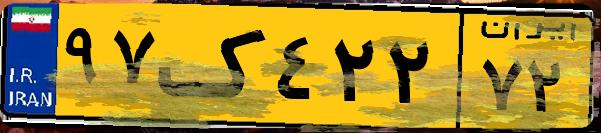2: (385, 28, 445, 110), (330, 28, 385, 110), (525, 38, 570, 115)
4: (270, 28, 330, 110)
7: (475, 38, 525, 113), (110, 28, 158, 98)
9: (57, 26, 110, 100)
ک: (158, 12, 270, 120)
